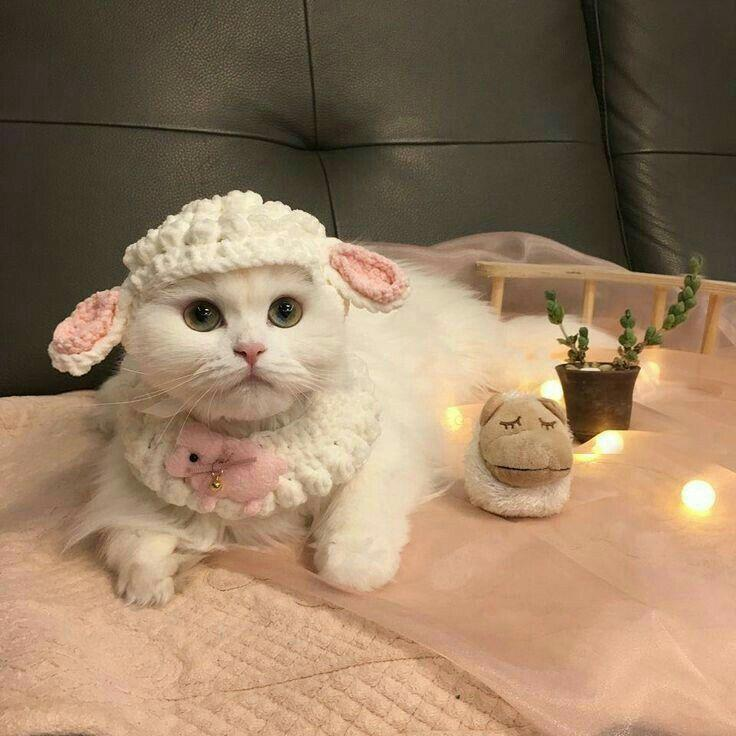kedo: (121, 262, 397, 592)
